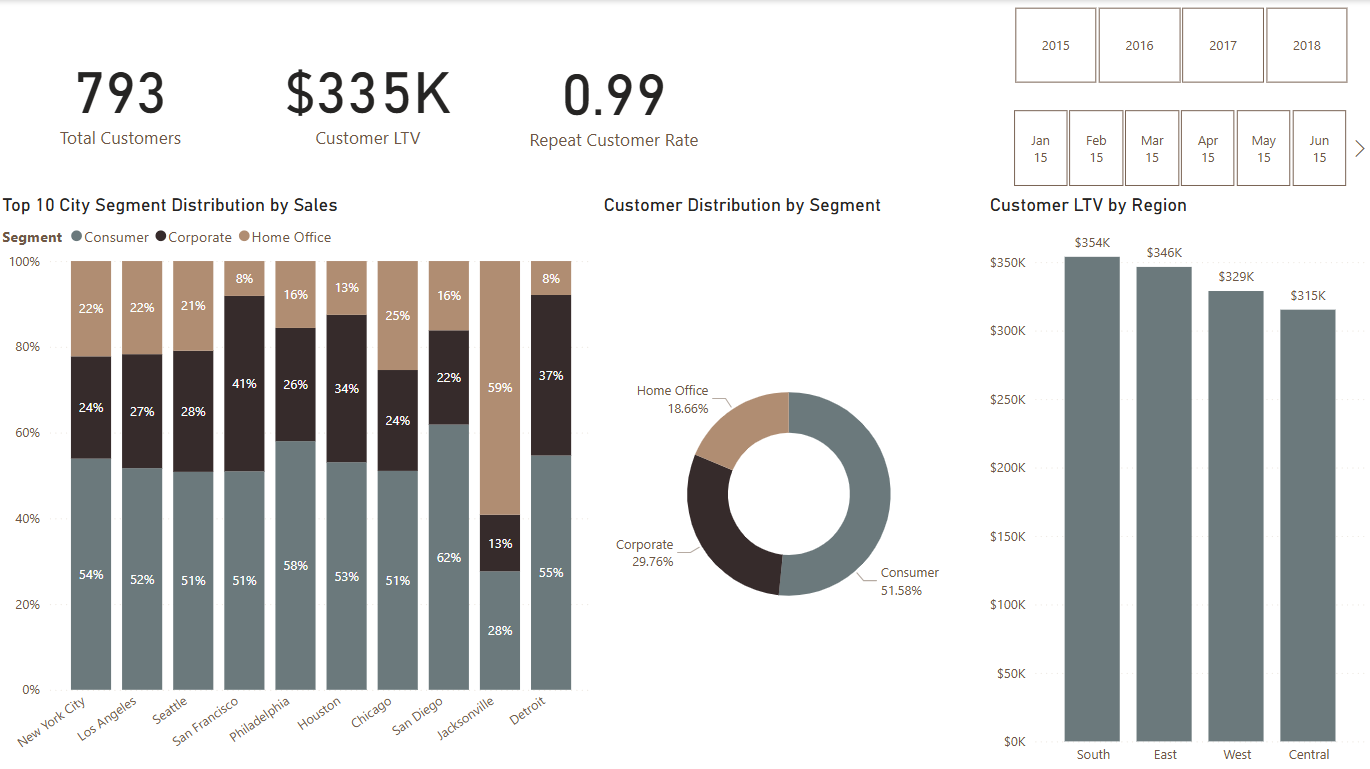

The dashboard page shown, as its layout file describes it:
{"tool":"powerbi","page":{"name":"Customer Analysis","canvas":[1280,720],"ordinal":1},"visuals":[{"type":"card","fields":{"Values":["Count(superstore_db superstore.Customer_ID)"]},"box":[0,0,230.1,179.7],"z":0},{"type":"card","fields":{"Values":["superstore_db superstore.Customer LTV"]},"box":[230.1,0,230.1,179.7],"z":1000},{"type":"slicer","fields":{"Values":["superstore_db superstore.Order_Date.Variation.Date Hierarchy.Year"]},"box":[920.5,0,359.5,84],"z":2000},{"type":"donutChart","title":"Customer Distribution by Segment","fields":{"Category":["superstore_db superstore.Segment"],"Y":["Count(superstore_db superstore.Customer_ID)"]},"box":[559.4,180.4,355.1,539.6],"z":3000},{"type":"hundredPercentStackedColumnChart","title":"Top 10 City Segment Distribution by Sales","fields":{"Category":["superstore_db superstore.City"],"Y":["Sum(superstore_db superstore.Sales)"],"Series":["superstore_db superstore.Segment"]},"box":[0,180.4,559.4,539.6],"z":5000},{"type":"columnChart","fields":{"Category":["superstore_db superstore.Region"],"Y":["superstore_db superstore.Customer LTV"]},"box":[918.7,180.4,360.7,539.6],"z":6000},{"type":"card","fields":{"Values":["superstore_db superstore.Repeat Customer Rate"]},"box":[459.3,0,229.7,183.2],"z":7000},{"type":"slicer","fields":{"Values":["superstore_db superstore.MonthYear"]},"box":[920.1,95.8,359.3,84.5],"z":8000}]}

Visuals, with their boxes in screenshot pixels (x1, y1, x2, y2), scaled from the page's 1280x720 canvas onto the 1370x769 screenshot:
card - Count(superstore_db superstore.Customer_ID): bbox=[0, 0, 246, 192]
card - superstore_db superstore.Customer LTV: bbox=[246, 0, 493, 192]
slicer - superstore_db superstore.Order_Date.Variation.Date Hierarchy.Year: bbox=[985, 0, 1369, 90]
"Customer Distribution by Segment" donutChart: bbox=[599, 193, 979, 768]
"Top 10 City Segment Distribution by Sales" hundredPercentStackedColumnChart: bbox=[0, 193, 599, 768]
columnChart - superstore_db superstore.Region x superstore_db superstore.Customer LTV: bbox=[983, 193, 1369, 768]
card - superstore_db superstore.Repeat Customer Rate: bbox=[492, 0, 737, 196]
slicer - superstore_db superstore.MonthYear: bbox=[985, 102, 1369, 193]
